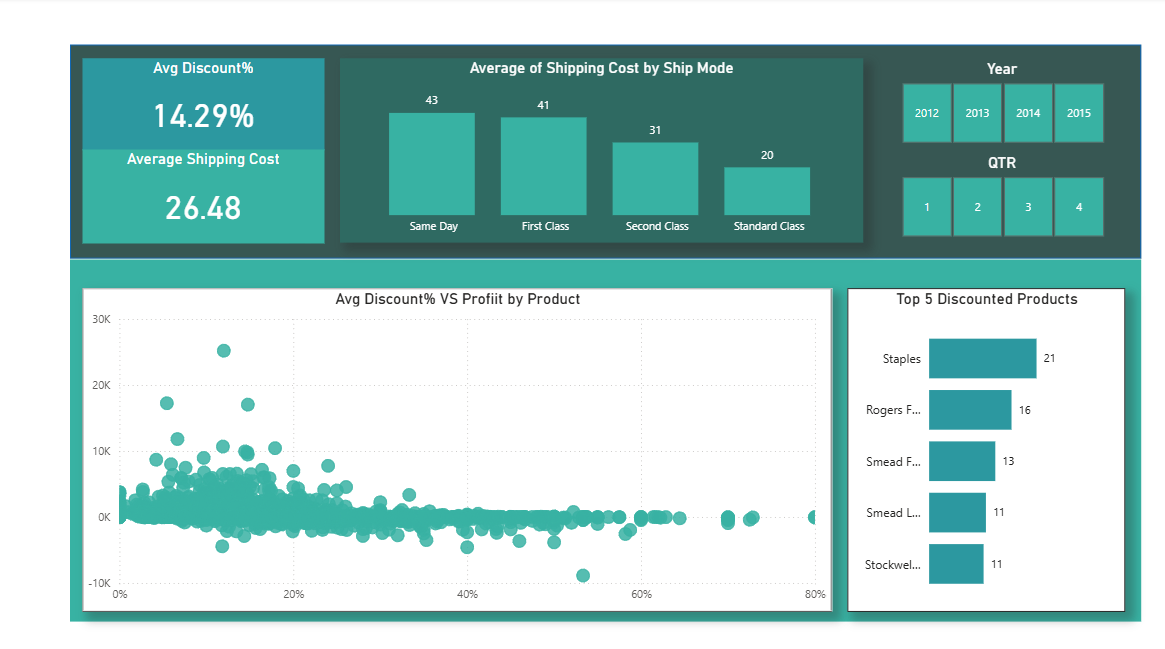

This screenshot's page, from the dashboard's own definition file:
{"tool":"powerbi","page":{"name":"Discount & Shipping Impact","canvas":[1280,720],"ordinal":4},"visuals":[{"type":"shape","box":[77,287.9,1175.9,397.7],"z":0},{"type":"shape","box":[77,52.7,1175.9,235.2],"z":1000},{"type":"card","title":"Avg Discount%","fields":{"Values":["Measures (2).Avg Discount%"]},"box":[91.2,67,265.1,99.8],"z":2000},{"type":"scatterChart","title":"Avg Discount% VS Profiit by Product ","fields":{"Category":["DimProductDetails.Product Name"],"X":["Measures (2).Avg Discount%"],"Y":["Measures (2).Total_Profiit"]},"box":[91.2,319.3,822.4,354.9],"z":3000},{"type":"columnChart","fields":{"Category":["FactSales.Ship Mode"],"Y":["Avg(FactSales.Shipping Cost)"]},"box":[373.5,67,574.4,202.4],"z":4000},{"type":"card","title":"Average Shipping Cost","fields":{"Values":["Avg(FactSales.Shipping Cost)"]},"box":[91.2,166.8,265.1,102.6],"z":5000},{"type":"barChart","title":"Top 5 Discounted Products","fields":{"Category":["DimProductDetails.Product Name"],"Y":["Sum(FactSales.Discount)"]},"box":[930.8,319.3,305,354.9],"z":6000},{"type":"slicer","title":"Year","fields":{"Values":["Dim_Date.Year"]},"box":[965,68.4,270.8,98.4],"z":7000},{"type":"slicer","title":"QTR","fields":{"Values":["Dim_Date.QTR"]},"box":[965,171,270.8,98.4],"z":8000}]}

Visuals, with their boxes in screenshot pixels (x1, y1, x2, y2), scaled from the page's 1280x720 canvas onto the 1165x649 screenshot:
shape: x1=70, y1=260, x2=1140, y2=618
shape: x1=70, y1=48, x2=1140, y2=260
"Avg Discount%" card: x1=83, y1=60, x2=324, y2=150
"Avg Discount% VS Profiit by Product " scatterChart: x1=83, y1=288, x2=832, y2=608
columnChart - FactSales.Ship Mode x Avg(FactSales.Shipping Cost): x1=340, y1=60, x2=863, y2=243
"Average Shipping Cost" card: x1=83, y1=150, x2=324, y2=243
"Top 5 Discounted Products" barChart: x1=847, y1=288, x2=1125, y2=608
"Year" slicer: x1=878, y1=62, x2=1125, y2=150
"QTR" slicer: x1=878, y1=154, x2=1125, y2=243
